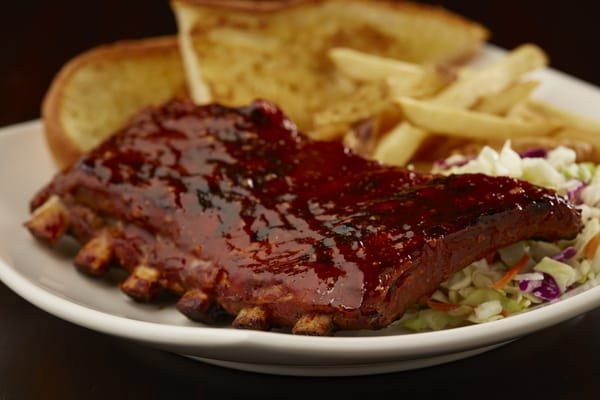soup: (39, 34, 184, 168)
